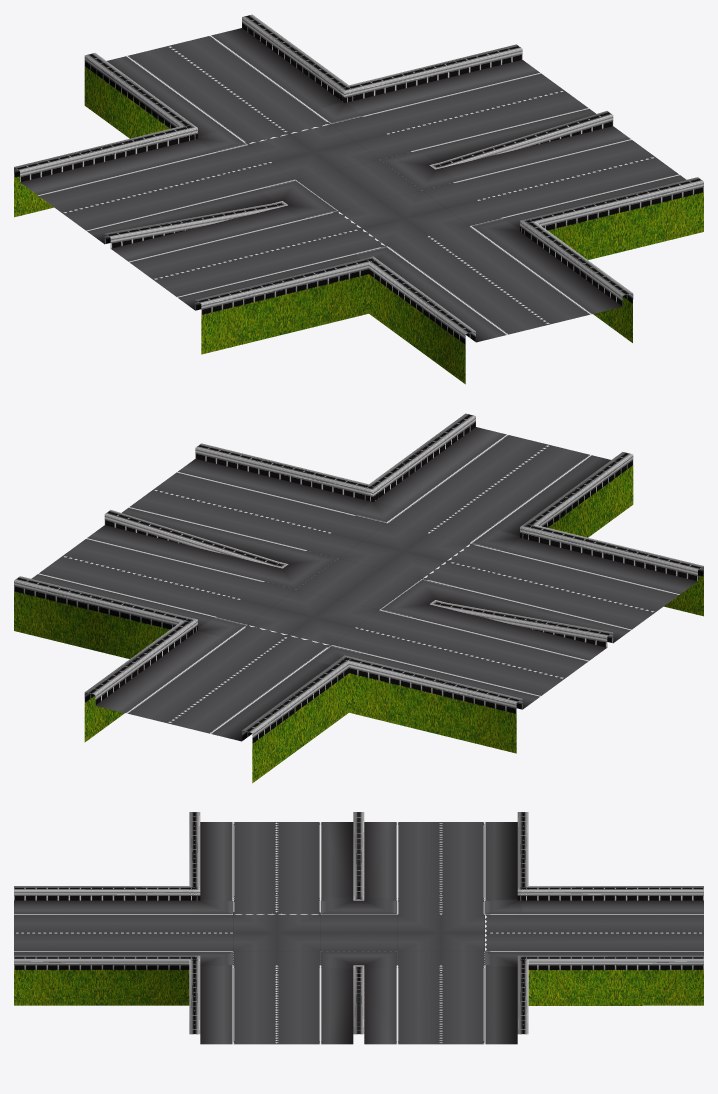
The model's file is kruispunt_snelweg_1b.fbx.
3 views of the same model, one above another, from view 1: azimuth 30°, elevation 25°; view 2: azimuth 150°, elevation 25°; view 3: azimuth 270°, elevation 25° (orthographic). The views are drawn at different scales.
Parts seen in each view (by area): view 1: kruispunt_weg_1b; view 2: kruispunt_weg_1b; view 3: kruispunt_weg_1b.
Boxes of the visible parts, x1=… form: kruispunt_weg_1b: x1=14, y1=14, x2=703, y2=384; kruispunt_weg_1b: x1=14, y1=413, x2=703, y2=783; kruispunt_weg_1b: x1=14, y1=812, x2=703, y2=1044.
Bounding box in the file's own units: 3000 × 288 × 3938.
